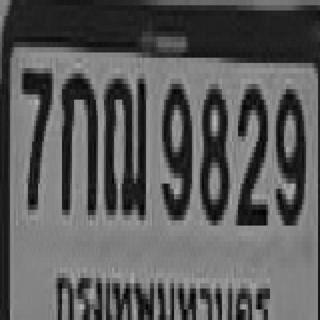A01: (60, 68, 96, 210)
A12: (102, 68, 144, 215)
N02: (234, 79, 266, 220)
N07: (20, 63, 50, 205)
N08: (198, 79, 226, 220)
N09: (160, 79, 190, 215), (274, 84, 304, 220)
P04: (50, 262, 274, 320)
